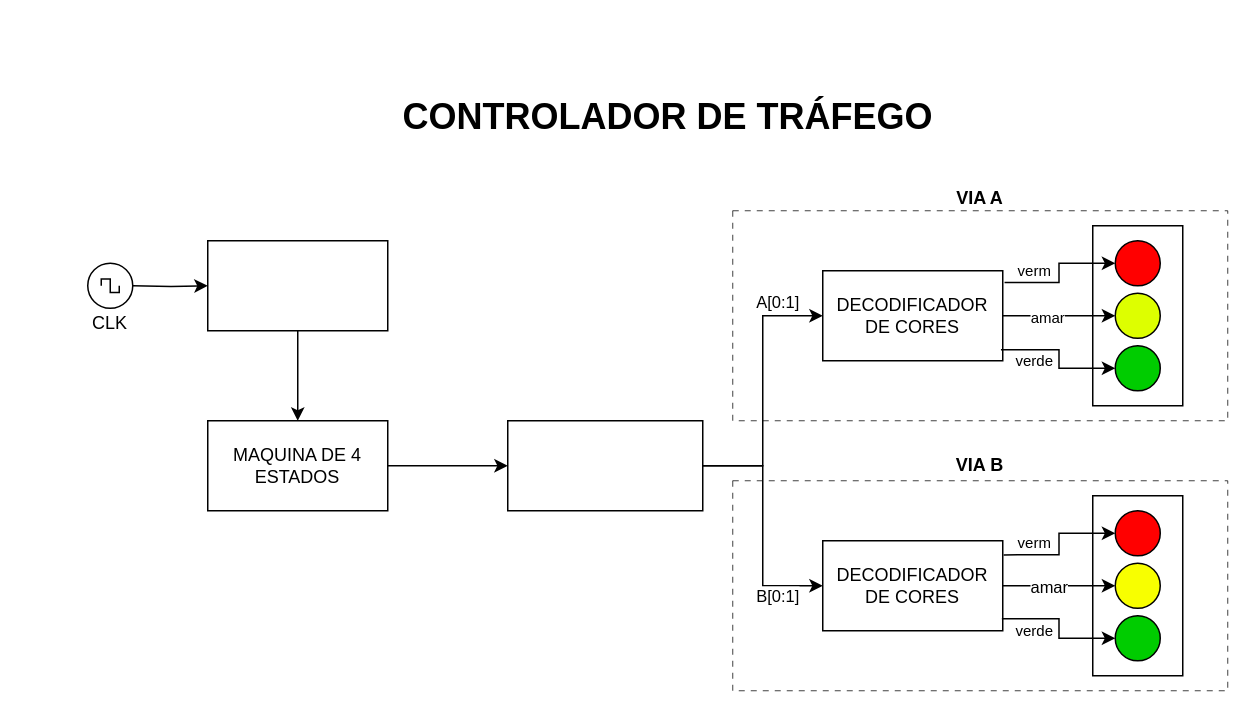
Image size: 1254x717. Some labels were removed from this diagram. The shapes that lost their labels are listed below. From the top down, each one's centre as x and y in pixels, then its label:
[297,285]: CONTADOR 8 CLOCKS
[604,465]: DECODIFICADOR DE ESTADOS (2X4)
